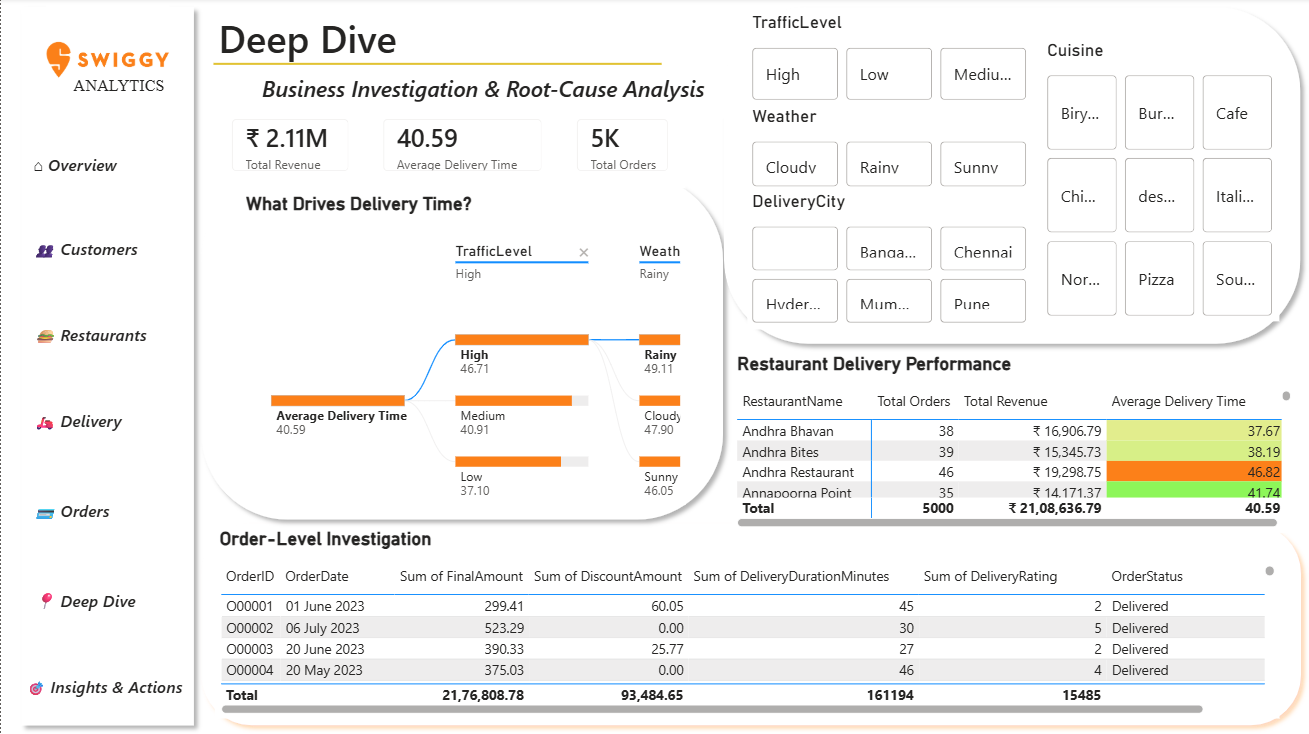

Layout of this report page (visuals, bound fields, positions):
{"tool":"powerbi","page":{"name":"Deep Dive","canvas":[1280,720],"ordinal":5},"visuals":[{"type":"shape","box":[186.6,505,1093.7,215.4],"z":0},{"type":"shape","box":[186.6,163.3,528.3,355.4],"z":1000},{"type":"shape","box":[698.5,0,581.8,347.2],"z":2000},{"type":"shape","box":[11,0,186.6,720.4],"z":3000},{"type":"image","box":[0,0,208.6,120.8],"z":4000},{"type":"textbox","box":[65.9,72.7,101.5,35.7],"z":5000},{"type":"textbox","box":[27.4,146.8,116.6,31.6],"z":6000},{"type":"textbox","box":[27.4,229.2,119.4,31.6],"z":7000},{"type":"textbox","box":[27.4,312.9,123.5,34.3],"z":8000},{"type":"textbox","box":[27.4,397.9,105.7,37],"z":9000},{"type":"textbox","box":[27.4,485.8,98.8,38.4],"z":10000},{"type":"textbox","box":[27.4,573.6,115.3,38.4],"z":11000},{"type":"textbox","box":[208.3,8.3,379.2,63.9],"z":12000},{"type":"shape","box":[208.3,50,438.6,28.6],"z":13000},{"type":"textbox","box":[244.3,68.6,470.7,49.4],"z":14000},{"type":"advancedSlicerVisual","fields":{"Values":["factorders.DeliveryCity"]},"box":[730,188,278.6,135.8],"z":15000},{"type":"advancedSlicerVisual","fields":{"Values":["dimrestaurant.Cuisine"]},"box":[1018.2,39.8,231.9,275.8],"z":16000},{"type":"advancedSlicerVisual","fields":{"Values":["factorders.TrafficLevel"]},"box":[730,13.7,278.6,91.9],"z":17000},{"type":"advancedSlicerVisual","fields":{"Values":["factorders.Weather"]},"box":[730,105.7,278.6,85.1],"z":18000},{"type":"cardVisual","fields":{"Data":["factorders.Total Orders"]},"box":[546.1,101.5,123.5,85.1],"z":19000},{"type":"cardVisual","fields":{"Data":["factorders.Total Revenue"]},"box":[208.6,101.5,148.2,85.1],"z":20000},{"type":"cardVisual","fields":{"Data":["factorders.Average Delivery Time"]},"box":[356.8,101.5,189.4,85.1],"z":21000},{"type":"decompositionTreeVisual","title":"What Drives Delivery Time?","fields":{"Analyze":["factorders.Average Delivery Time"],"ExplainBy":["factorders.TrafficLevel","factorders.Weather","factorders.DeliveryCity","dimrider.VehicleType","dimrestaurant.Cuisine"]},"box":[234.6,190.7,435,304.6],"z":22000},{"type":"pivotTable","title":"Restaurant Delivery Performance","fields":{"Rows":["dimrestaurant.RestaurantName"],"Values":["factorders.Total Orders","factorders.Total Revenue","factorders.Average Delivery Time"]},"box":[714.9,347.2,551.6,175.6],"z":23000},{"type":"tableEx","title":"Order-Level Investigation ","fields":{"Values":["factorders.OrderID","factorders.OrderDate","Sum(factorders.FinalAmount)","Sum(factorders.DiscountAmount)","Sum(factorders.DeliveryDurationMinutes)","Sum(factorders.DeliveryRating)","factorders.OrderStatus"]},"box":[208.6,518.7,1041.5,186.6],"z":24000},{"type":"textbox","box":[20.6,657.3,166,32.9],"z":25000},{"type":"actionButton","box":[27.4,138.6,100,40],"z":25001},{"type":"actionButton","box":[27.4,225,115.3,39.8],"z":25002},{"type":"actionButton","box":[30.2,307.4,120.8,39.8],"z":25003},{"type":"actionButton","box":[30.2,395.2,100,40],"z":25004},{"type":"actionButton","box":[26.1,478.9,100,40],"z":25005},{"type":"actionButton","box":[16.5,657.3,170.2,39.8],"z":25006}]}

Visuals, with their boxes on the page's 1280x720 design canvas (x1, y1, x2, y2). These are canvas units, not pixel positions in the 1309x734 screenshot, which may show the page scaled, cropped or inside an application window:
shape: (187, 505, 1280, 720)
shape: (187, 163, 715, 519)
shape: (698, 0, 1280, 347)
shape: (11, 0, 198, 720)
image: (0, 0, 209, 121)
textbox: (66, 73, 167, 108)
textbox: (27, 147, 144, 178)
textbox: (27, 229, 147, 261)
textbox: (27, 313, 151, 347)
textbox: (27, 398, 133, 435)
textbox: (27, 486, 126, 524)
textbox: (27, 574, 143, 612)
textbox: (208, 8, 588, 72)
shape: (208, 50, 647, 79)
textbox: (244, 69, 715, 118)
advancedSlicerVisual - factorders.DeliveryCity: (730, 188, 1009, 324)
advancedSlicerVisual - dimrestaurant.Cuisine: (1018, 40, 1250, 316)
advancedSlicerVisual - factorders.TrafficLevel: (730, 14, 1009, 106)
advancedSlicerVisual - factorders.Weather: (730, 106, 1009, 191)
cardVisual - factorders.Total Orders: (546, 102, 670, 187)
cardVisual - factorders.Total Revenue: (209, 102, 357, 187)
cardVisual - factorders.Average Delivery Time: (357, 102, 546, 187)
"What Drives Delivery Time?" decompositionTreeVisual: (235, 191, 670, 495)
"Restaurant Delivery Performance" pivotTable: (715, 347, 1266, 523)
"Order-Level Investigation " tableEx: (209, 519, 1250, 705)
textbox: (21, 657, 187, 690)
actionButton: (27, 139, 127, 179)
actionButton: (27, 225, 143, 265)
actionButton: (30, 307, 151, 347)
actionButton: (30, 395, 130, 435)
actionButton: (26, 479, 126, 519)
actionButton: (16, 657, 187, 697)
